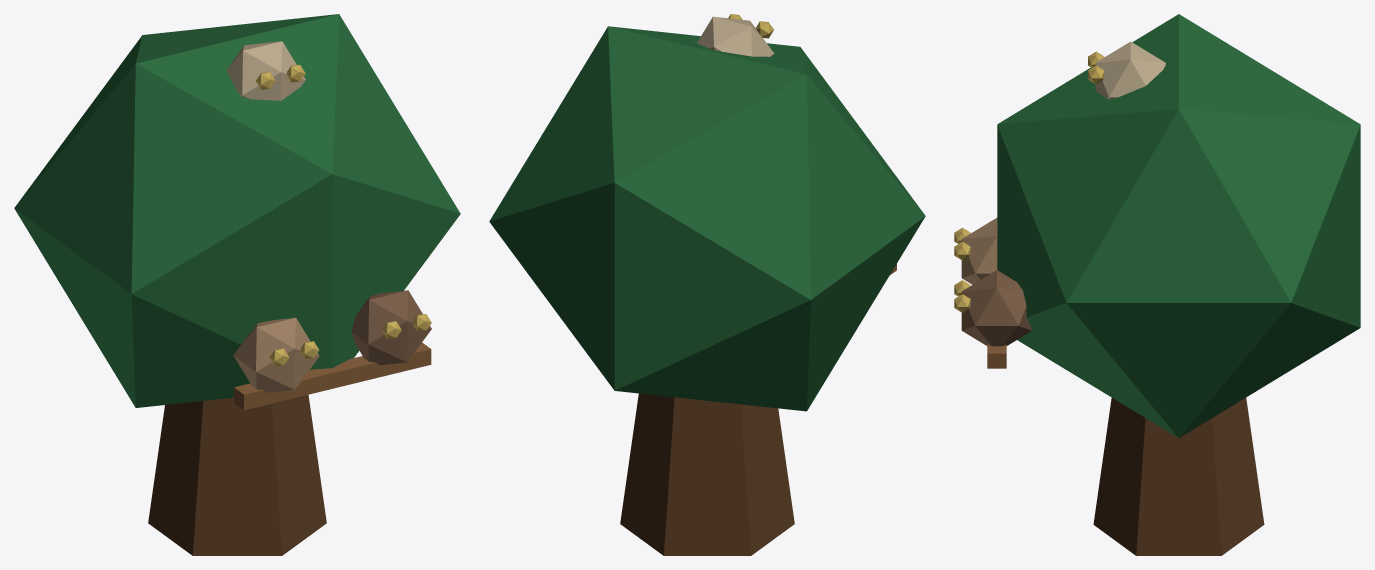
The model's file is owl-parliament.glb.
The picture shows the model from 3 angles, left to right: view 1: azimuth 30°, elevation 25°; view 2: azimuth 150°, elevation 25°; view 3: azimuth 270°, elevation 25°; orthographic projection. The views are drawn at different scales.
Visible parts, largest first — view 1: owl_parliament; view 2: owl_parliament; view 3: owl_parliament.
Part boxes in pixels (left/top/right/bottom): owl_parliament: left=14, top=14, right=460, bottom=555; owl_parliament: left=489, top=14, right=925, bottom=555; owl_parliament: left=954, top=14, right=1360, bottom=555.
Bounding box in the file's own units: 0.2637 × 0.3795 × 0.2948.
